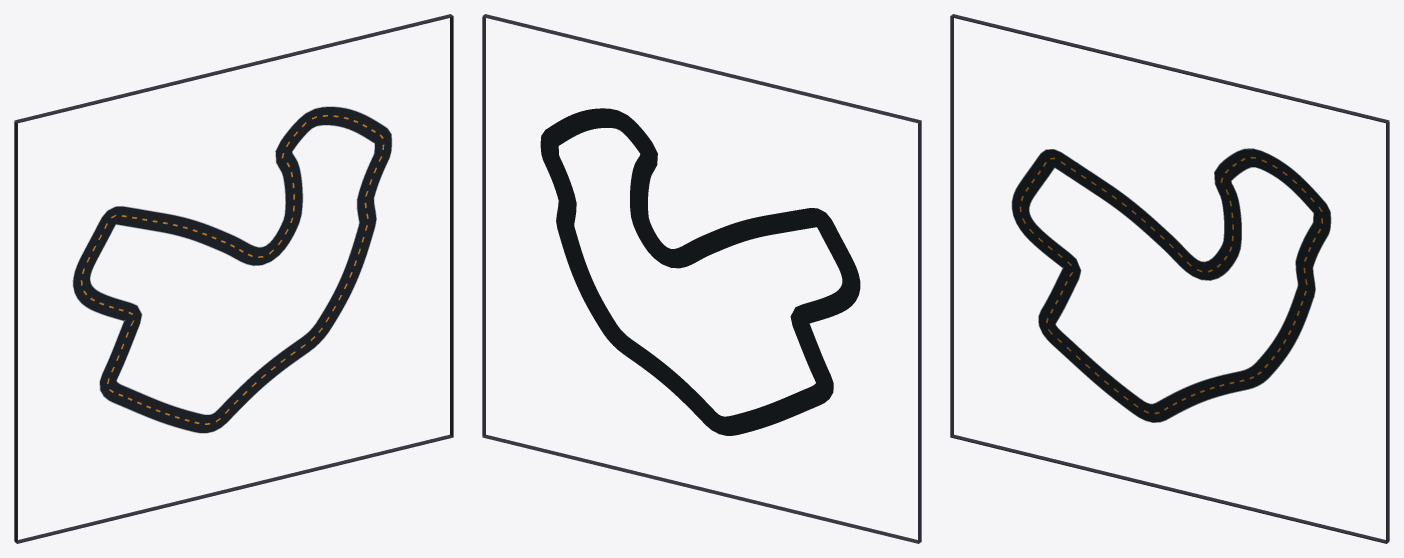
The model's file is track.obj.
3 renders of one model, left to right at view 1: azimuth 30°, elevation 25°; view 2: azimuth 150°, elevation 25°; view 3: azimuth 330°, elevation 25°, orthographic.
Bounding box in the file's own units: 25.74 × 23.74 × 0.3.
Materials: 4 (4 with a texture image).
